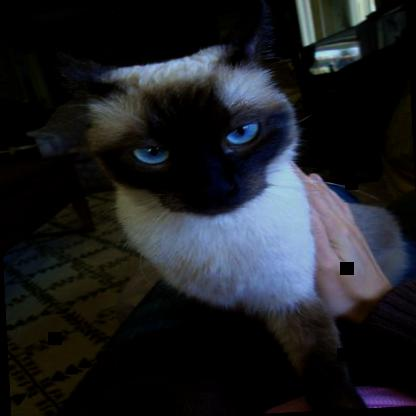cat: (49, 0, 410, 415)
